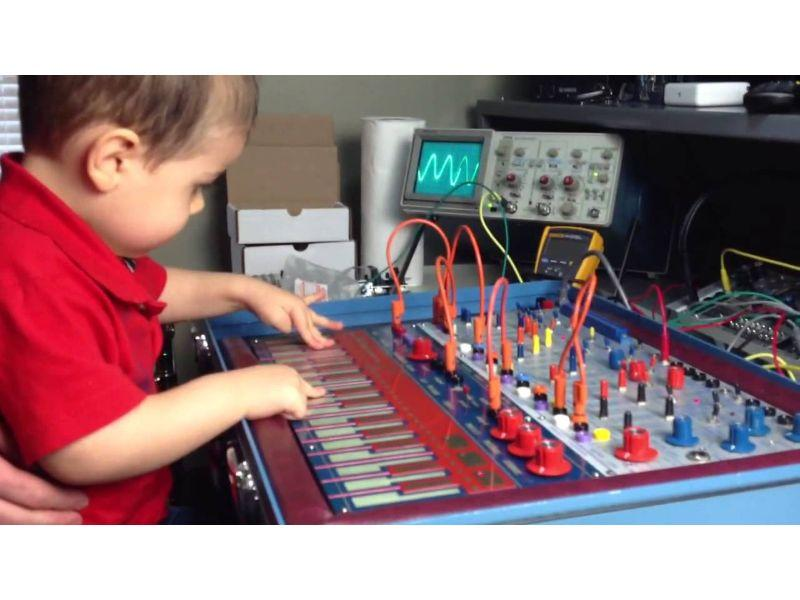synthesizer: (258, 271, 782, 506)
